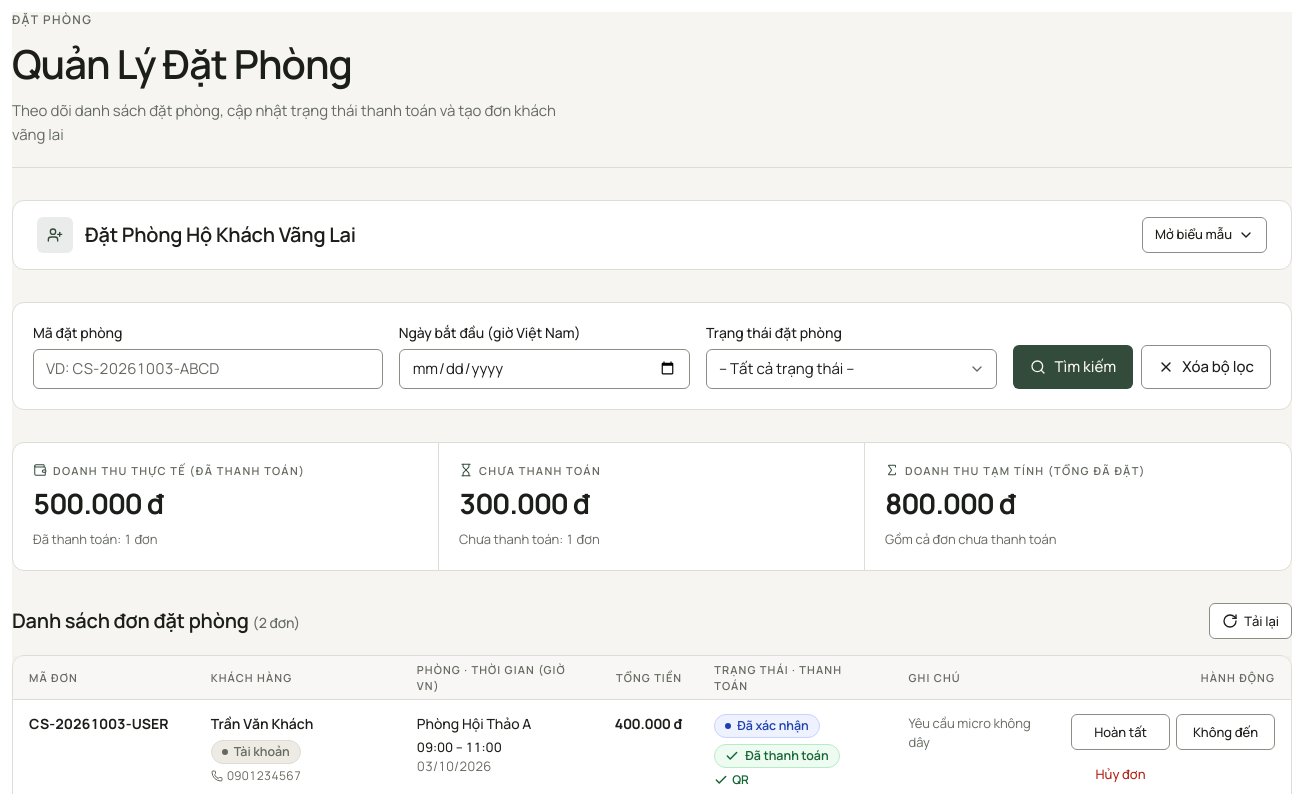
Test: AdminBookingsPage - Booking Management & Search › Revenue KPI Summary and State Transition Actions (Complete / No-Show) › marks booking as no-show when admin clicks Không đến button
Click the button with test id "no-show-booking-btn-booking-1": (1226, 732) [1176, 714, 1275, 750]
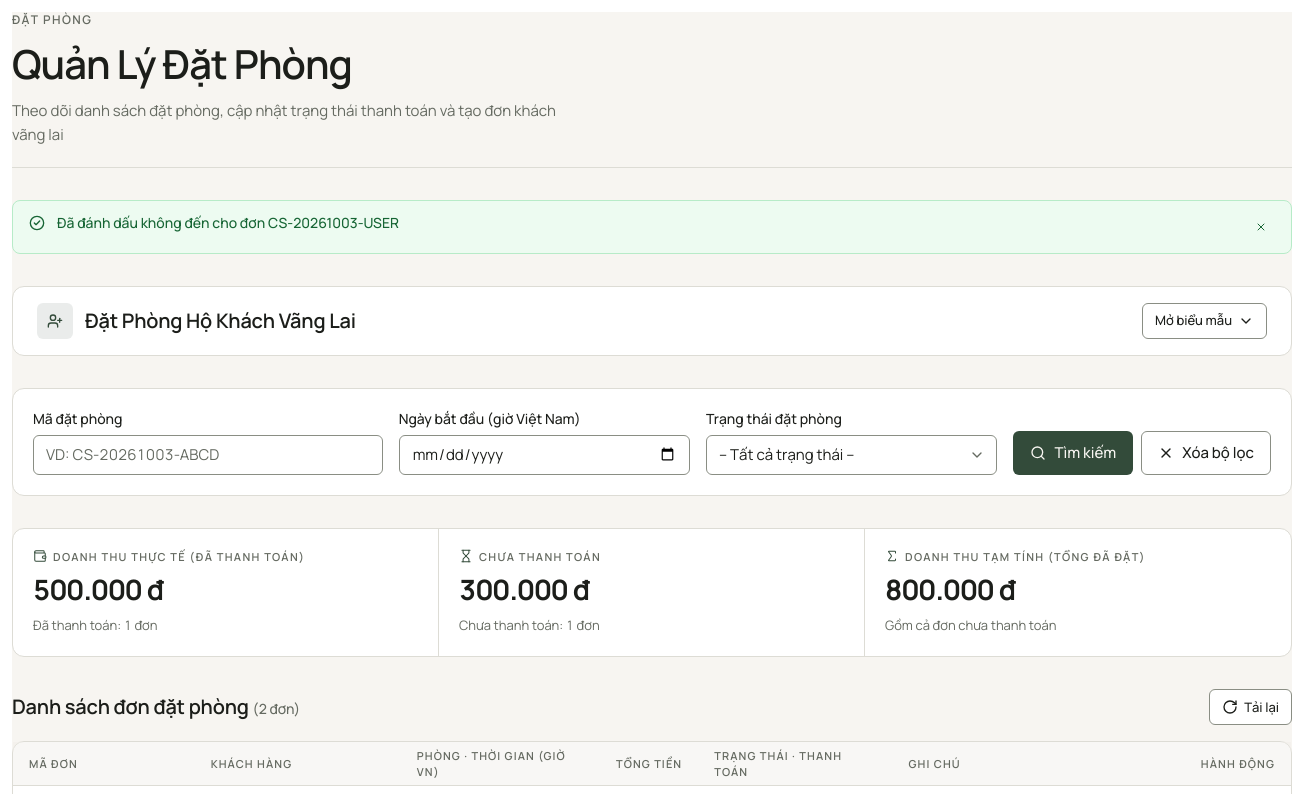
Expected: the text "Đã đánh dấu không đến cho đơn CS-20261003-USER" is shown, [57, 213, 399, 232]
